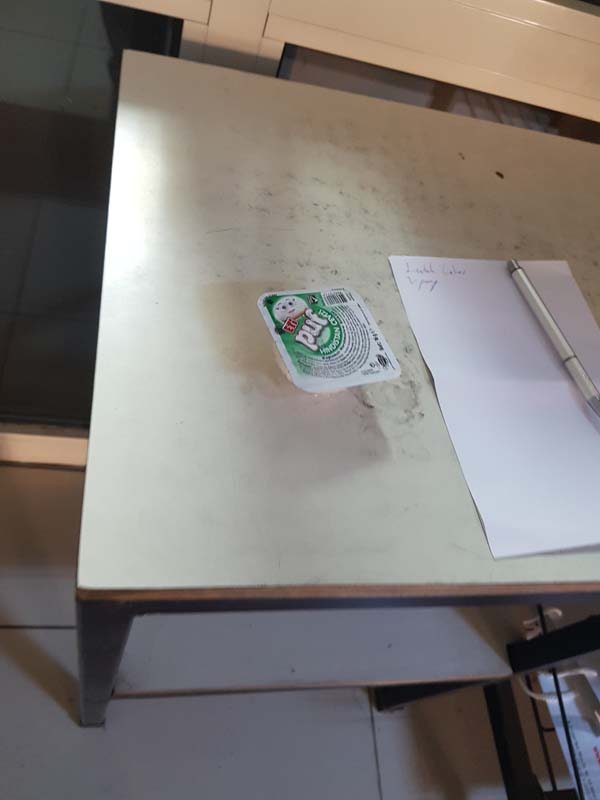etipuf: (256, 275, 400, 398)
